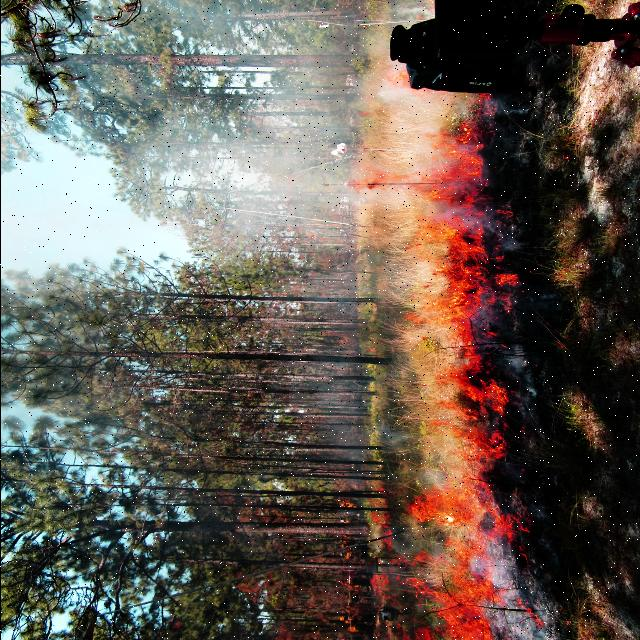api: (455, 124, 513, 637), (397, 487, 455, 635)
asap: (128, 7, 402, 201)
